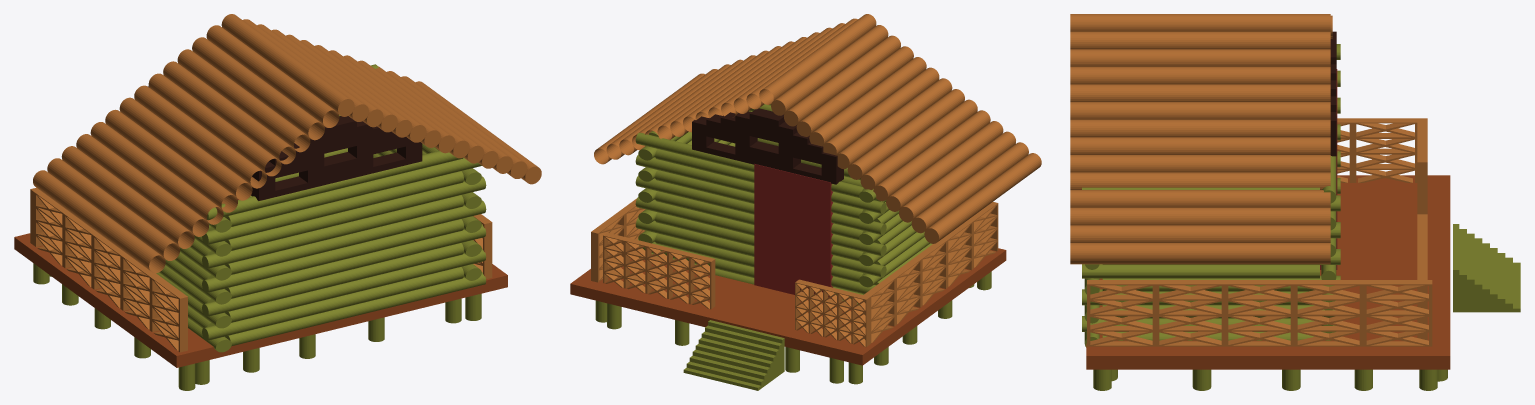
File: meshu.fbx
3 renders of one model, left to right at view 1: azimuth 30°, elevation 25°; view 2: azimuth 150°, elevation 25°; view 3: azimuth 270°, elevation 25°, orthographic. The views are drawn at different scales.
Visible parts, largest first — view 1: 円柱; view 2: 円柱; view 3: 円柱.
Part boxes in pixels (<box>): 円柱: <box>14,14,541,390</box>; 円柱: <box>570,14,1041,390</box>; 円柱: <box>1070,14,1520,390</box>.
Bounding box in the file's own units: 593 × 381 × 527.
